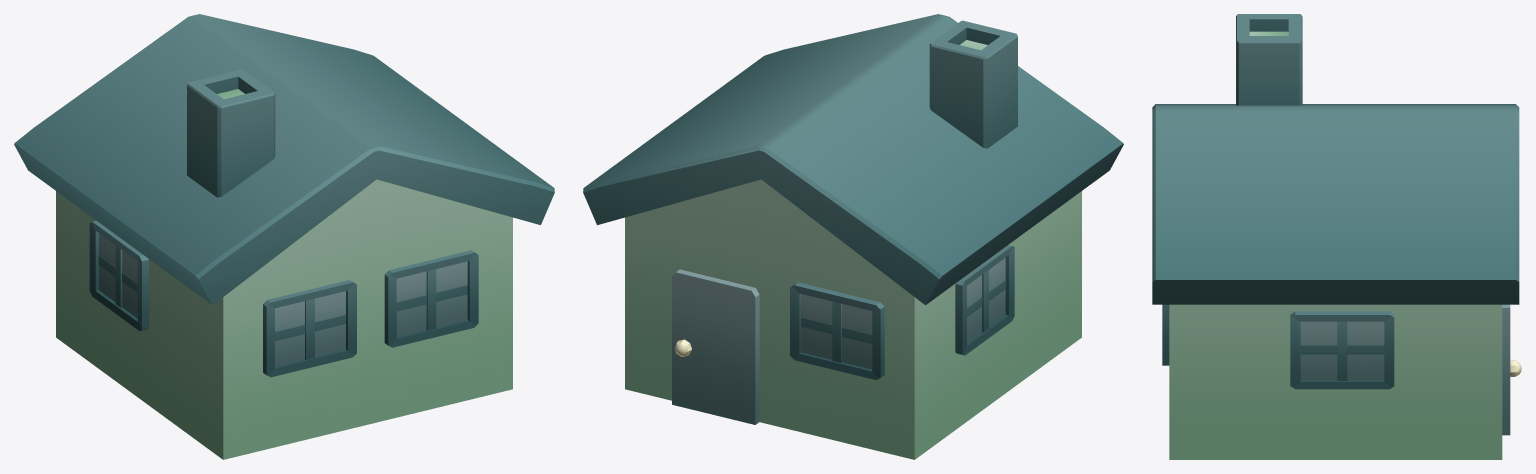
The model's file is houseBlue.fbx.
3 views of the same model, side by side, from view 1: azimuth 30°, elevation 25°; view 2: azimuth 150°, elevation 25°; view 3: azimuth 270°, elevation 25° (orthographic).
Visible parts, largest first — view 1: HouseBlue; view 2: HouseBlue; view 3: HouseBlue.
Part boxes in pixels (x1=…): HouseBlue: x1=14, y1=14, x2=554, y2=459; HouseBlue: x1=583, y1=14, x2=1123, y2=459; HouseBlue: x1=1152, y1=14, x2=1521, y2=459.
Bounding box in the file's own units: 6.2 × 5.3 × 5.55.
